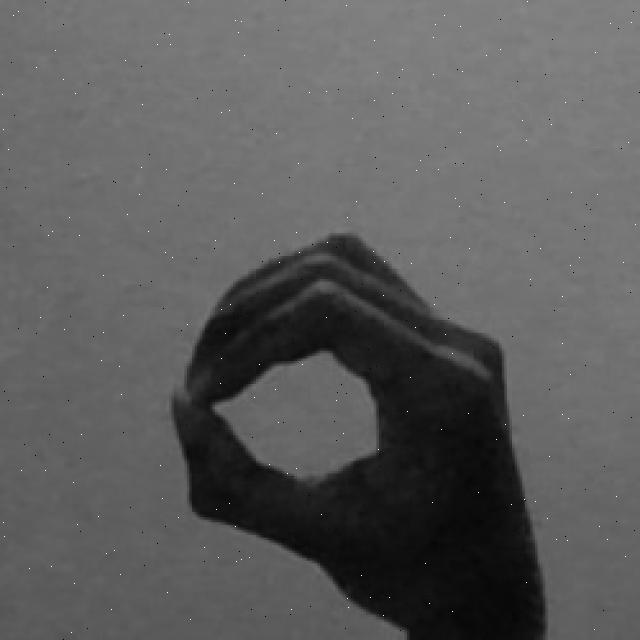O: (156, 225, 558, 640)
